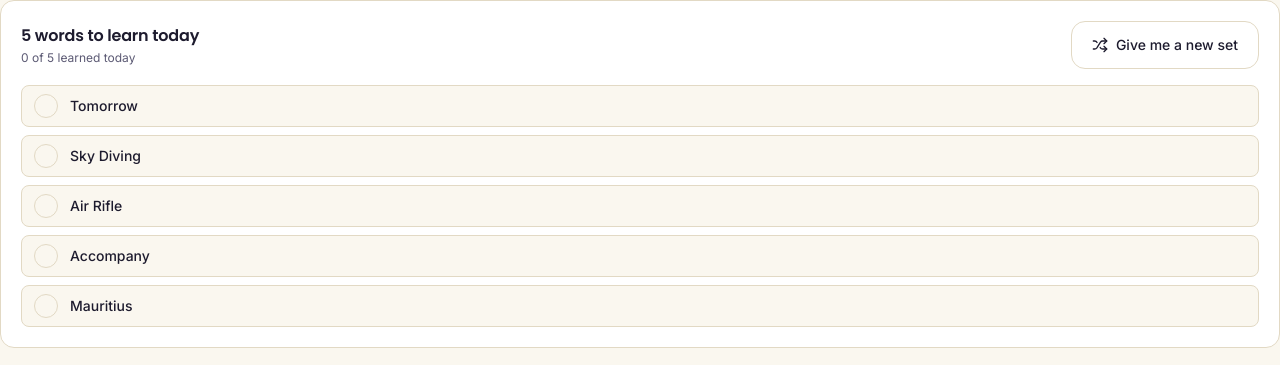
DailyPracticeChecklist › checking a word off updates the progress count and persists to localStorage
Click the button named "Mark Tomorrow as learned" at (46, 106), box [34,94,58,118]
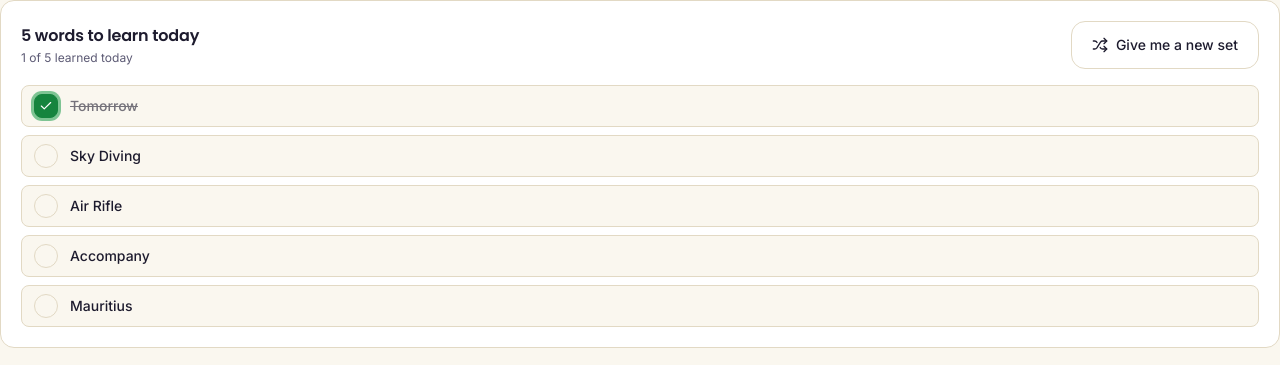
Now the text "1 of 5 learned today" is shown, box [21,50,133,65]
